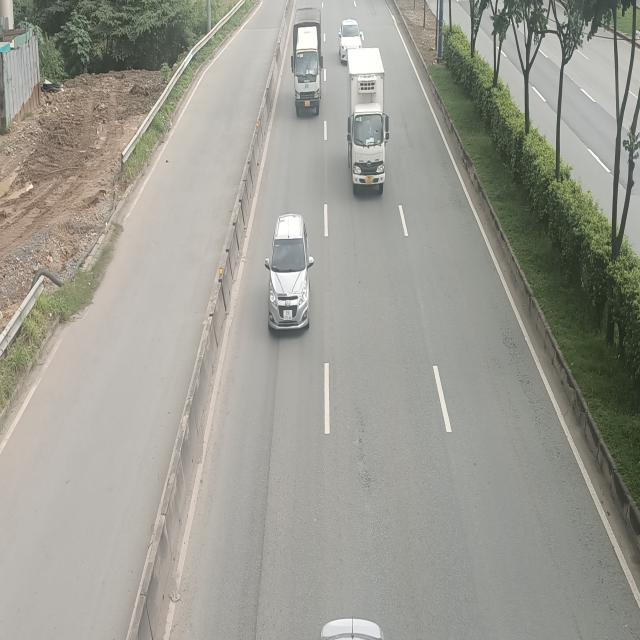car: (267, 215, 314, 335)
truck: (347, 48, 390, 195), (290, 3, 321, 117)
